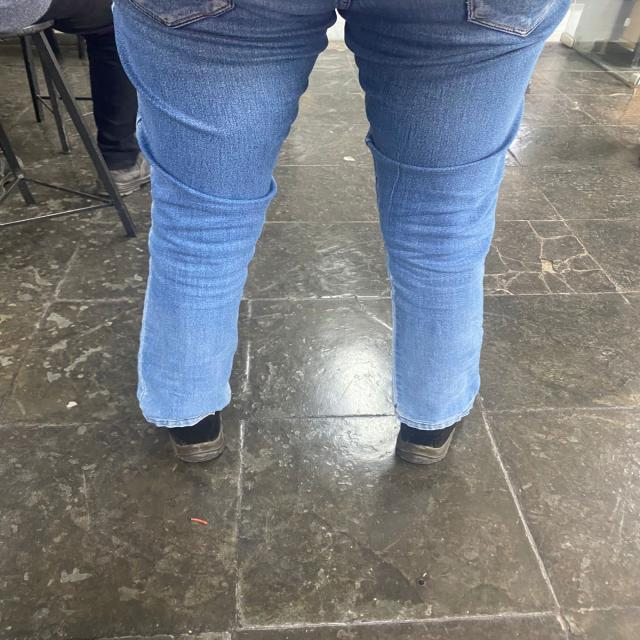BOTA: (165, 411, 224, 462), (395, 420, 456, 463), (94, 154, 152, 198)
